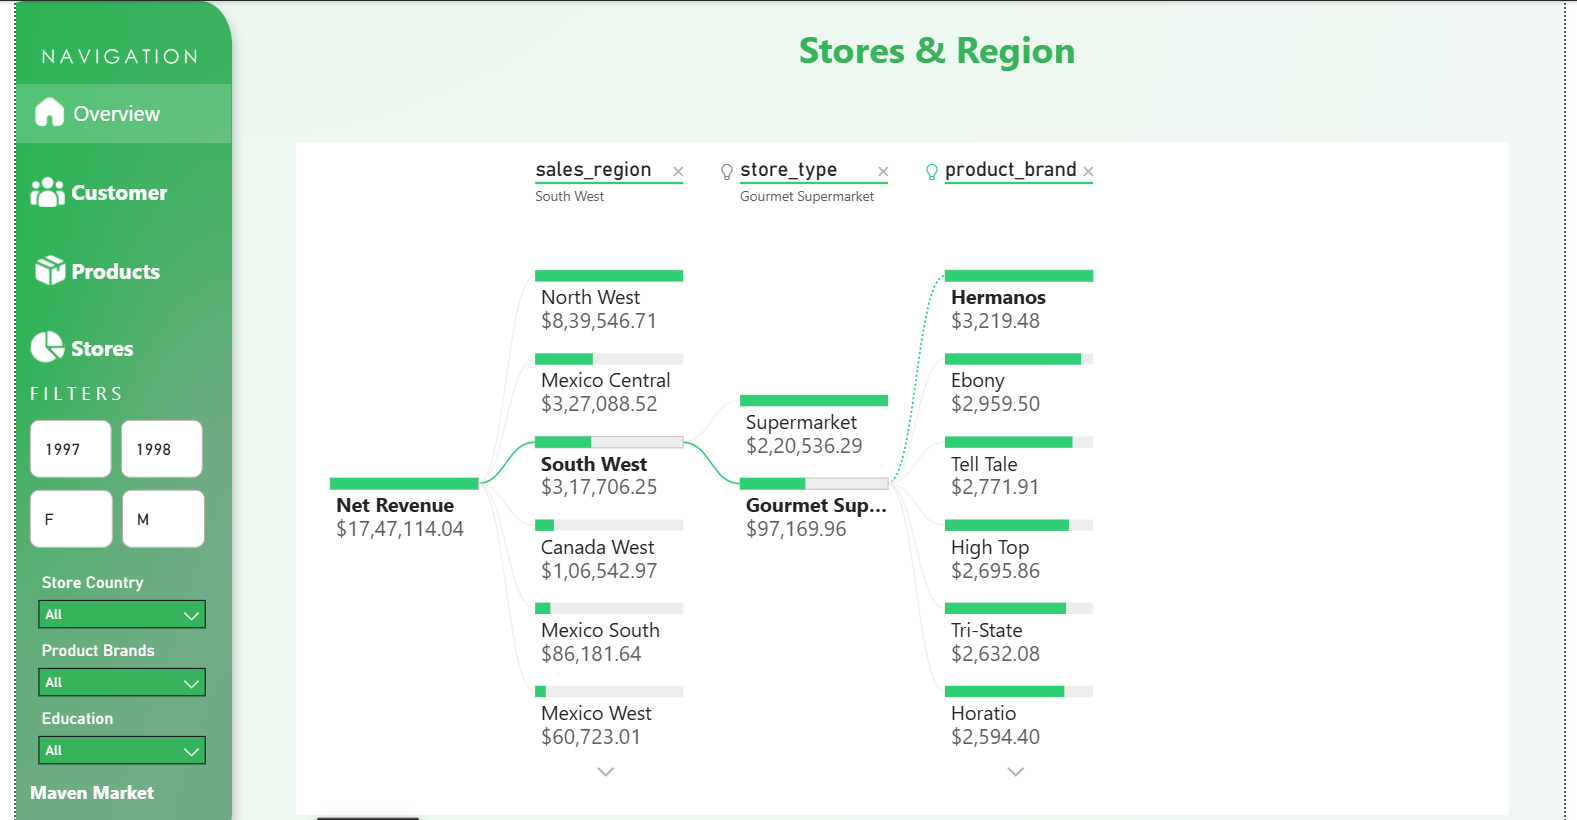

The dashboard page shown, as its layout file describes it:
{"tool":"powerbi","page":{"name":"Stores & Region","canvas":[1360,750],"ordinal":3},"visuals":[{"type":"image","box":[0,0,202,750],"z":0},{"type":"actionButton","box":[10.8,70.6,164.5,54.2],"z":1000},{"type":"actionButton","box":[9.2,139.3,165.9,55.3],"z":2000},{"type":"shape","box":[0,72.6,188.9,51.8],"z":3000},{"type":"actionButton","box":[9.2,209.1,164.8,54.1],"z":4000},{"type":"actionButton","box":[9.2,277.7,164.8,53],"z":5000},{"type":"textbox","box":[7.3,679.1,148.2,36.4],"z":7000},{"type":"textbox","box":[644,14,331,59],"z":9000},{"type":"image","box":[16.1,35.7,150.9,30],"z":10000},{"type":"advancedSlicerVisual","fields":{"Values":["Calendar.Year"]},"box":[7.3,362.7,163.6,61.8],"z":11000},{"type":"textbox","box":[7.3,328.2,180,34.5],"z":12000},{"type":"slicer","fields":{"Values":["Stores.store_country"]},"box":[9.5,498.1,167.2,57.2],"z":13000},{"type":"slicer","fields":{"Values":["Products.product_brand"]},"box":[9.5,557.6,167.2,57.2],"z":14000},{"type":"slicer","fields":{"Values":["Customers.education"]},"box":[9.5,617,167.2,57.2],"z":15000},{"type":"decompositionTreeVisual","fields":{"Analyze":["_Measures.Net Revenue"],"ExplainBy":["Regions.sales_region","Stores.store_type","Products.product_brand"]},"box":[246,124,1065.5,591.1],"z":16000},{"type":"advancedSlicerVisual","fields":{"Values":["Customers.gender"]},"box":[6.6,424.1,164.4,61.4],"z":16001}]}

Visuals, with their boxes on the page's 1360x750 design canvas (x1, y1, x2, y2). These are canvas units, not pixel positions in the 1577x820 screenshot, which may show the page scaled, cropped or inside an application window:
image: crop(0, 0, 202, 750)
actionButton: crop(11, 71, 175, 125)
actionButton: crop(9, 139, 175, 195)
shape: crop(0, 73, 189, 124)
actionButton: crop(9, 209, 174, 263)
actionButton: crop(9, 278, 174, 331)
textbox: crop(7, 679, 156, 716)
textbox: crop(644, 14, 975, 73)
image: crop(16, 36, 167, 66)
advancedSlicerVisual - Calendar.Year: crop(7, 363, 171, 424)
textbox: crop(7, 328, 187, 363)
slicer - Stores.store_country: crop(10, 498, 177, 555)
slicer - Products.product_brand: crop(10, 558, 177, 615)
slicer - Customers.education: crop(10, 617, 177, 674)
decompositionTreeVisual - _Measures.Net Revenue x Regions.sales_region: crop(246, 124, 1312, 715)
advancedSlicerVisual - Customers.gender: crop(7, 424, 171, 486)
